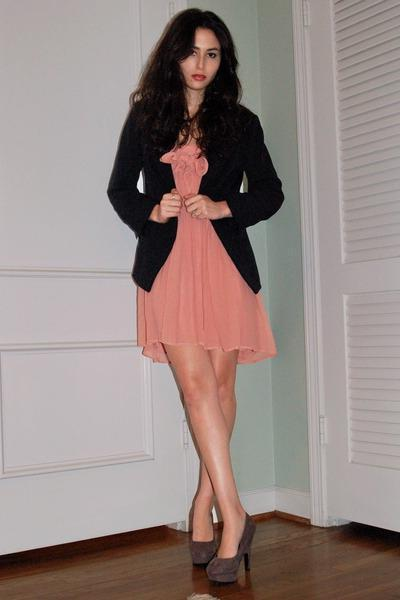dress: (128, 131, 278, 362)
jacket: (107, 95, 283, 294)
